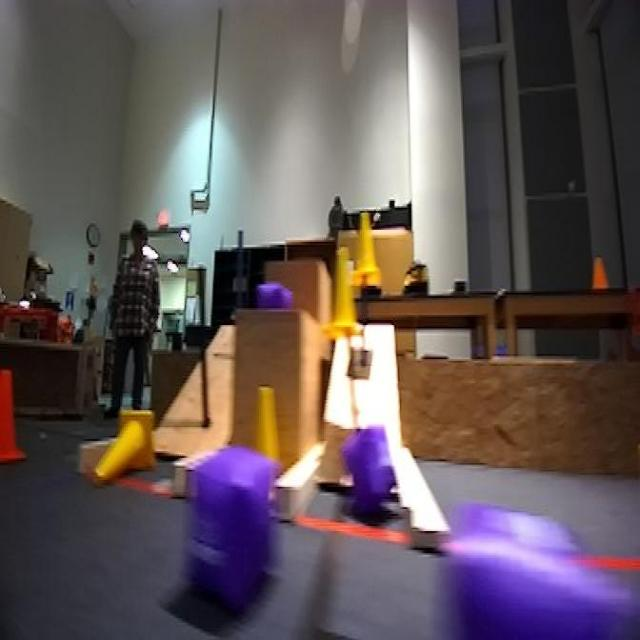frc_cone: (88, 407, 155, 487), (241, 378, 282, 487), (319, 245, 354, 337), (352, 211, 384, 296)
frc_cube: (444, 498, 640, 640), (202, 462, 286, 588), (328, 413, 402, 538), (246, 272, 297, 315)
